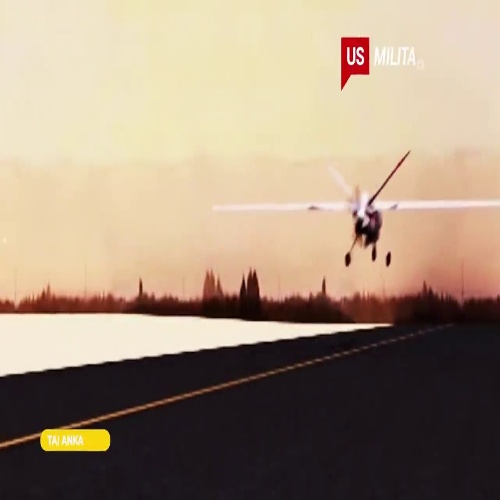uav195: (212, 151, 500, 269)
